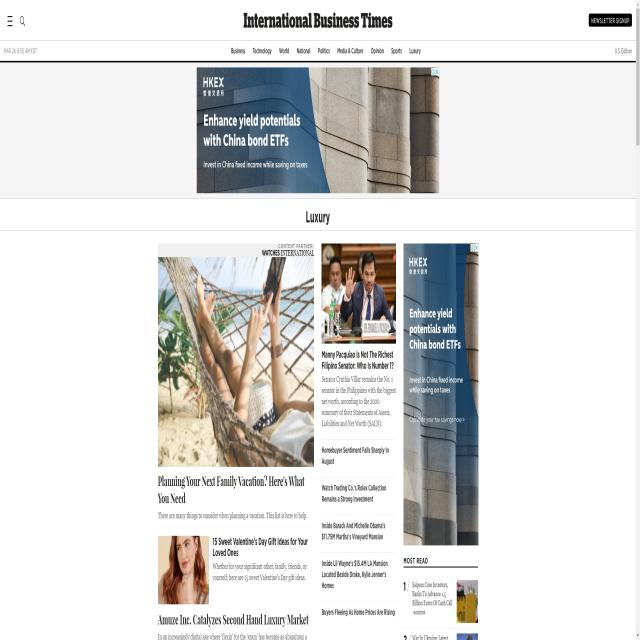tab-bar: (226, 38, 427, 62)
